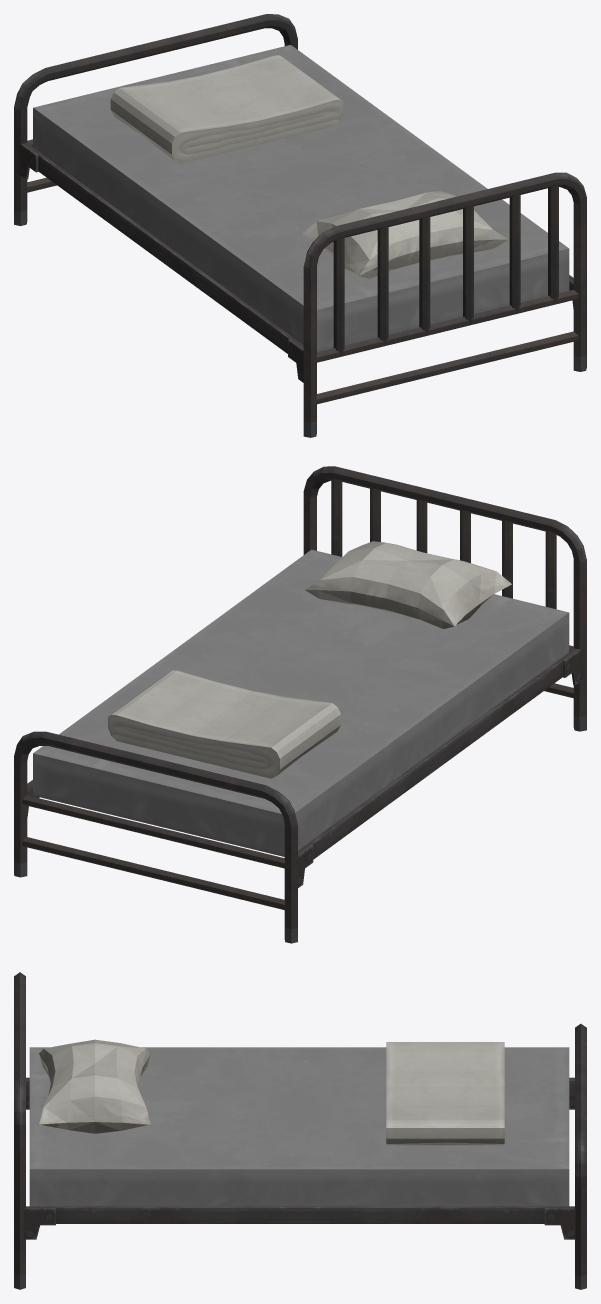
File: P_SingleBed_001_S1_M03.obj
The picture shows the model from 3 angles, top to bottom: view 1: azimuth 30°, elevation 25°; view 2: azimuth 150°, elevation 25°; view 3: azimuth 270°, elevation 25°; orthographic projection. The views are drawn at different scales.
Bounding box in the file's own units: 1.65 × 1.13 × 2.98.
Materials: 1 (1 with a texture image).
